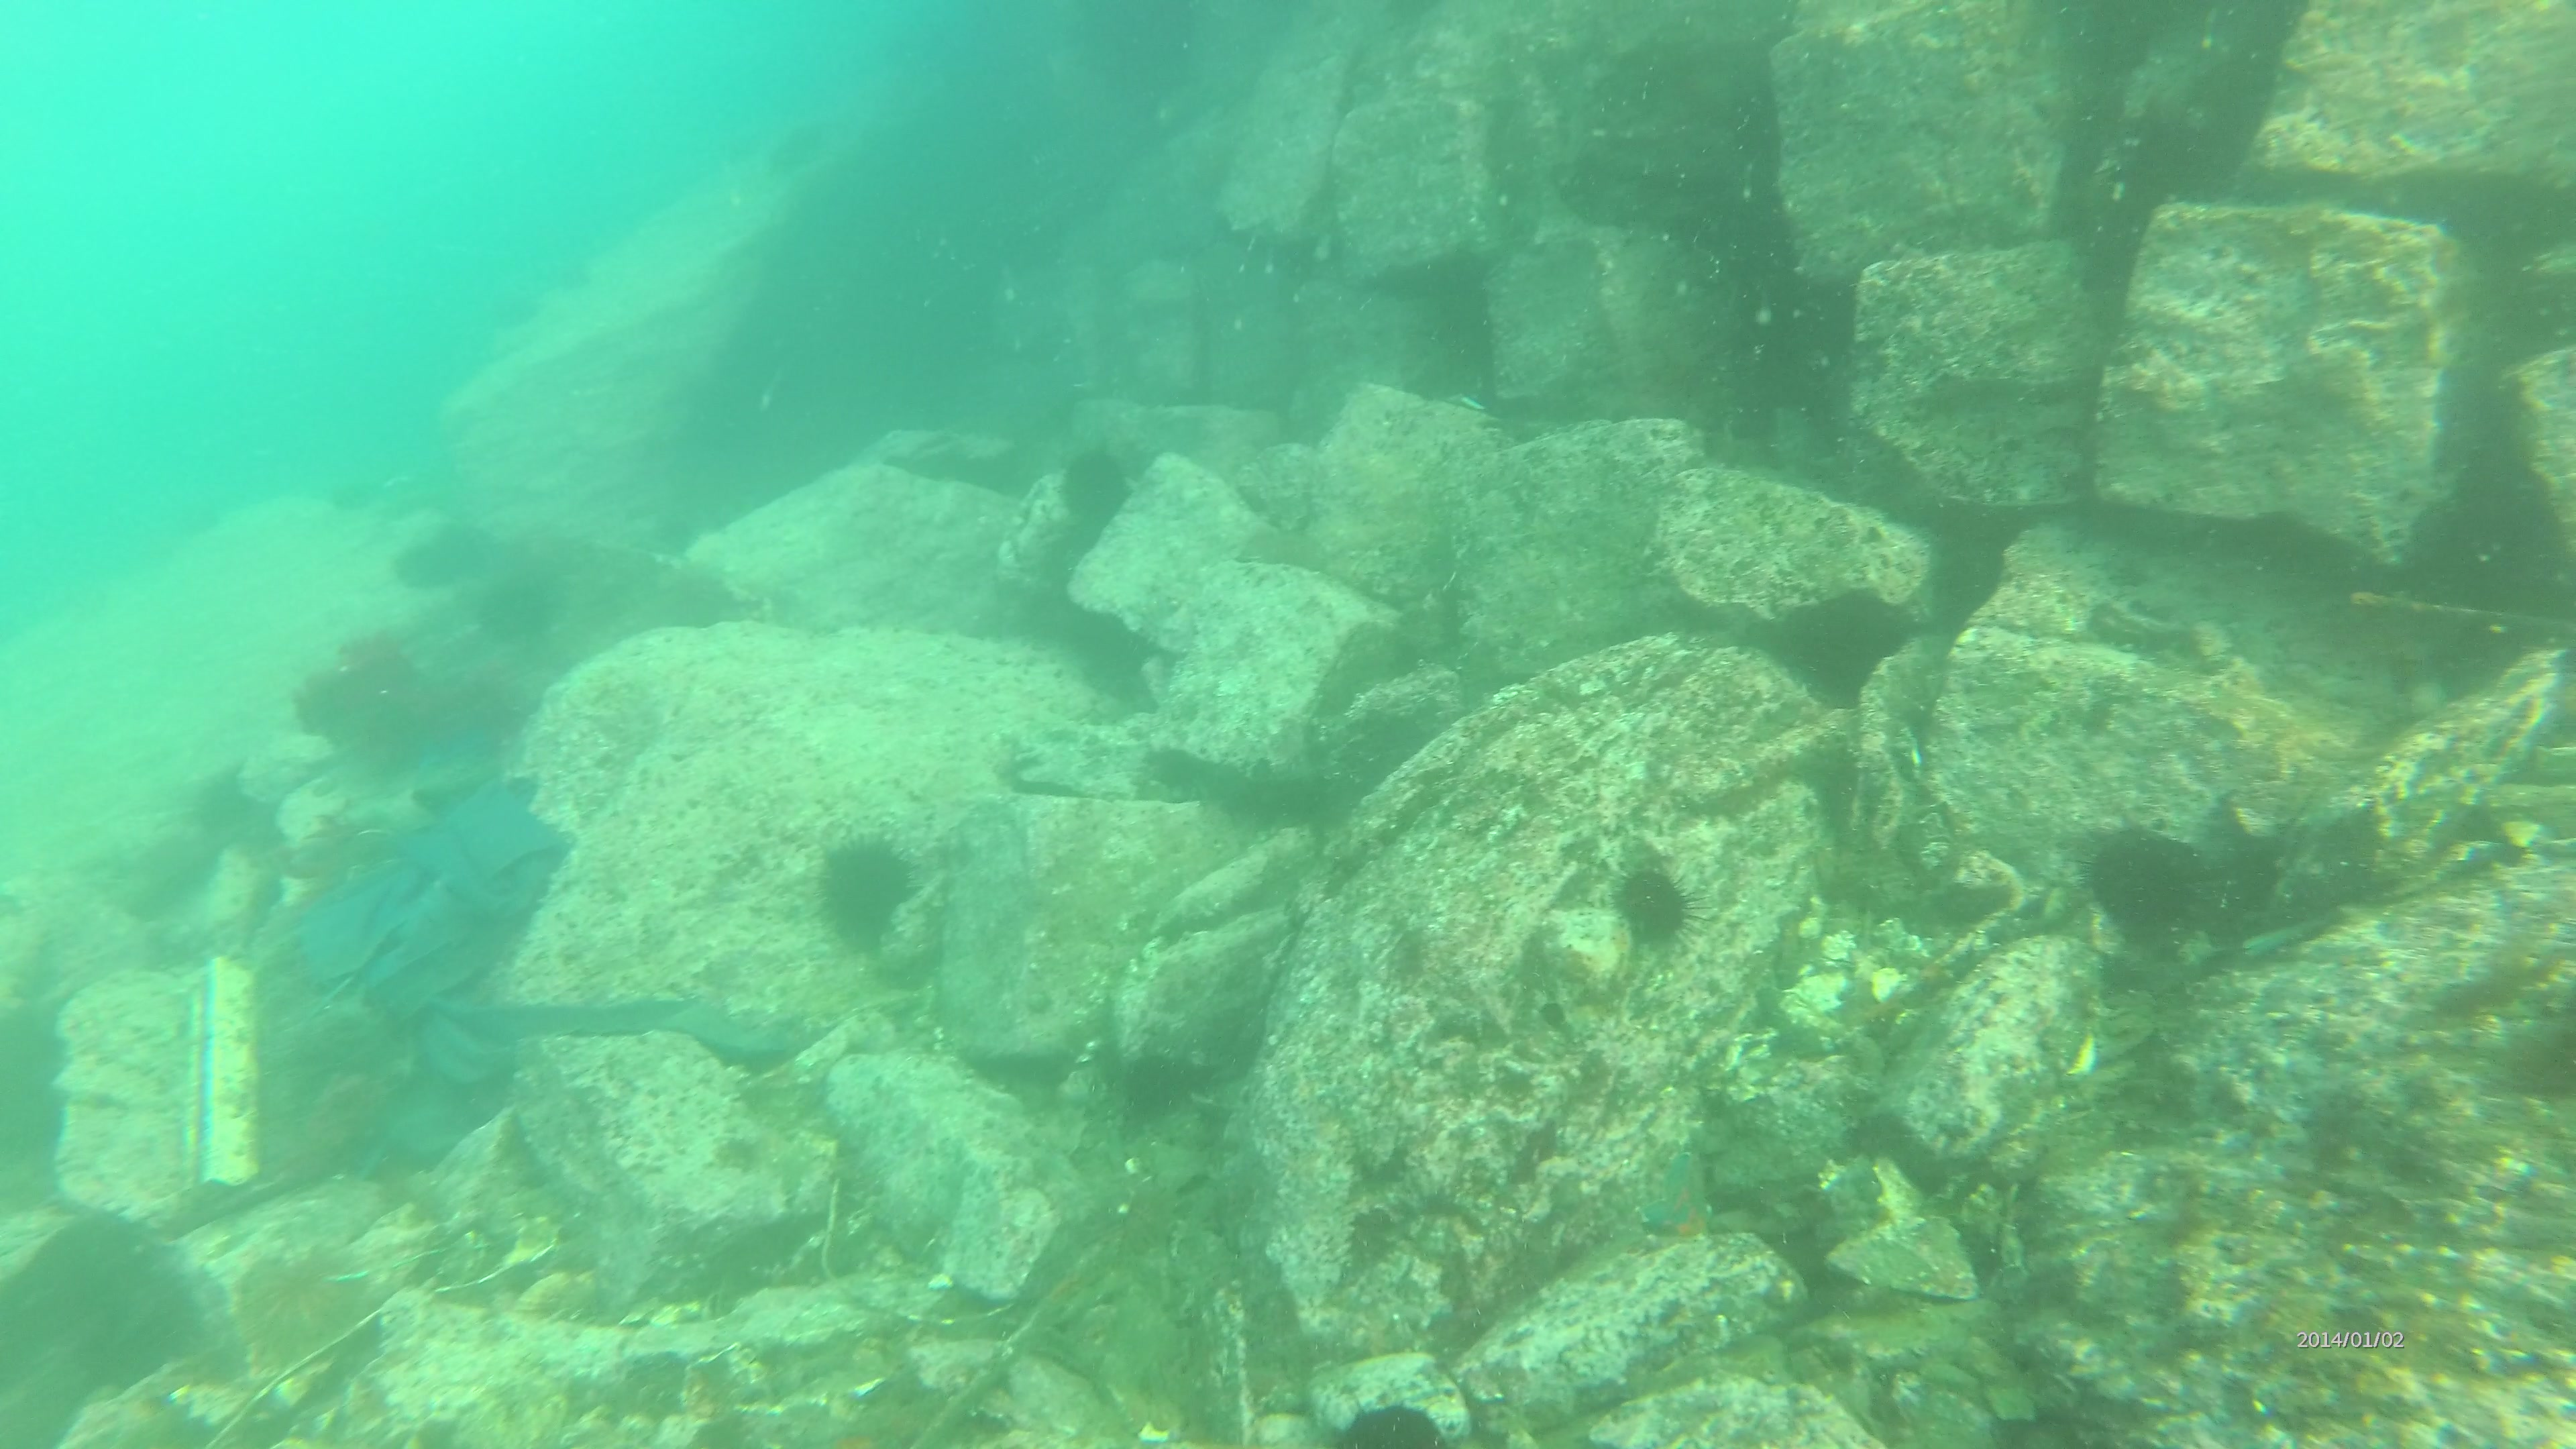echinus: (241, 1249, 375, 1371), (805, 830, 927, 941), (2088, 826, 2196, 931), (1606, 860, 1693, 952), (1054, 448, 1132, 525)
starfish: (1633, 1143, 1721, 1253)
